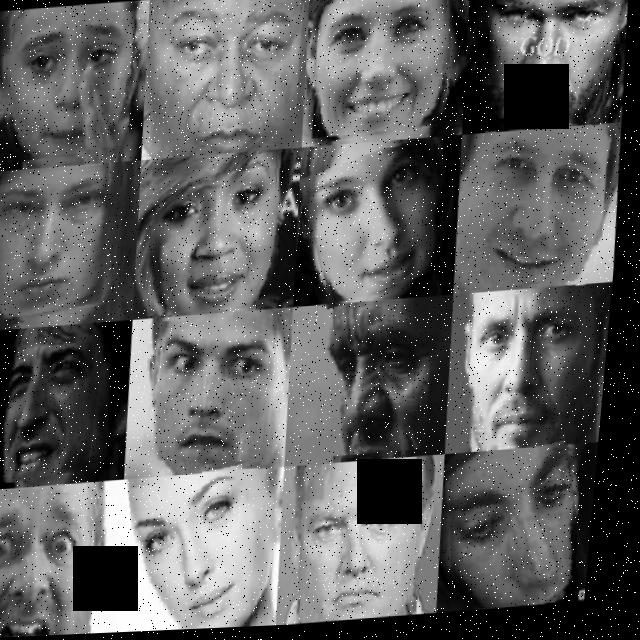anger: (463, 0, 627, 135), (463, 300, 600, 454), (312, 309, 444, 461), (306, 485, 433, 625), (1, 341, 115, 486)
fear: (147, 318, 289, 470), (0, 484, 112, 639)
happy: (464, 130, 616, 296), (301, 147, 453, 308), (147, 154, 293, 318), (131, 468, 273, 634), (309, 0, 464, 142)
sad: (447, 449, 596, 616), (149, 0, 308, 153), (0, 12, 140, 164), (0, 166, 132, 324)
